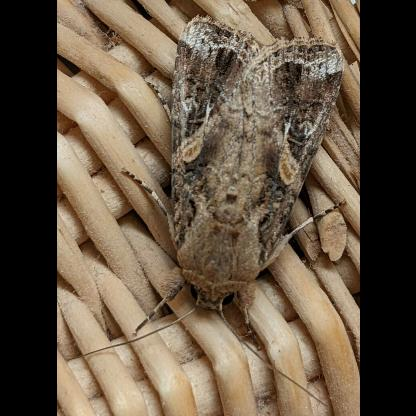Fall Armyworm Moth: (66, 11, 350, 408)
